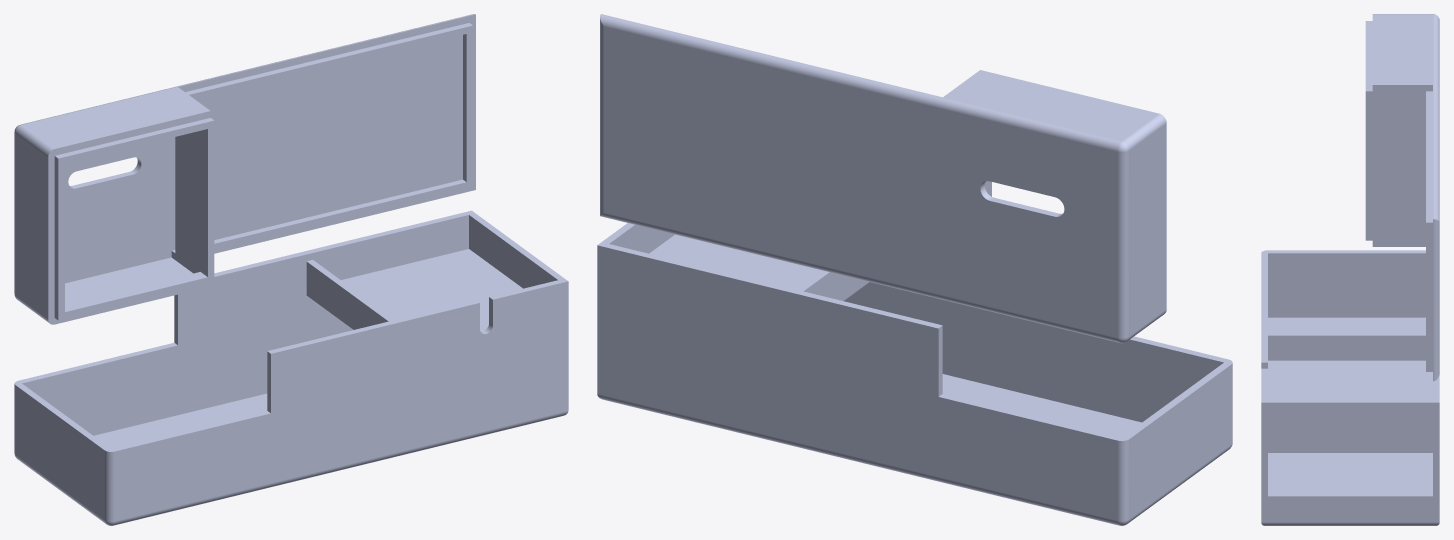
File: box_assy.glb
3 views of the same model, side by side, from view 1: azimuth 30°, elevation 25°; view 2: azimuth 150°, elevation 25°; view 3: azimuth 270°, elevation 25° (orthographic). The views are drawn at different scales.
Parts seen in each view (by area): view 1: Simon Box-1, Simon Box Lid-1; view 2: Simon Box Lid-1, Simon Box-1; view 3: Simon Box-1, Simon Box Lid-1.
Boxes of the visible parts, x1,y1,x2,y2 form: Simon Box-1: (14, 210, 568, 525); Simon Box Lid-1: (14, 14, 475, 324); Simon Box Lid-1: (600, 14, 1166, 343); Simon Box-1: (597, 223, 1232, 525); Simon Box-1: (1261, 250, 1439, 525); Simon Box Lid-1: (1365, 14, 1439, 381).
Bounding box in the file's own units: 0.1798 × 0.125 × 0.0654.
